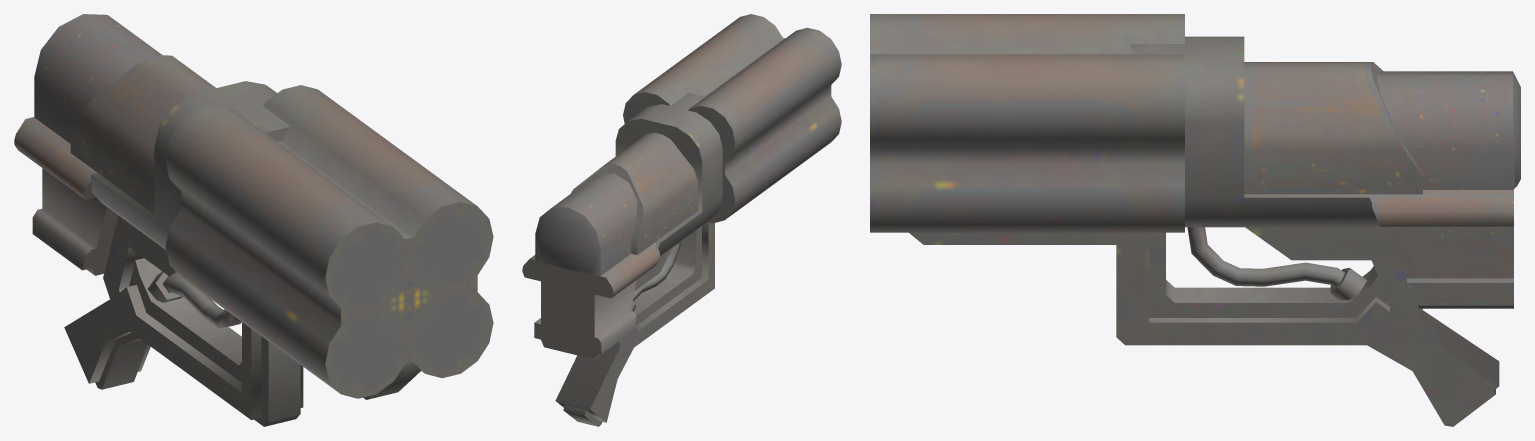
The model's file is stock4.obj.
3 views of the same model, side by side, from view 1: azimuth 30°, elevation 25°; view 2: azimuth 150°, elevation 25°; view 3: azimuth 270°, elevation 25° (orthographic). The views are drawn at different scales.
Parts seen in each view (by area): view 1: stock4; view 2: stock4; view 3: stock4.
Boxes of the visible parts, bbox=[...] form: stock4: bbox=[14, 14, 493, 426]; stock4: bbox=[522, 14, 841, 426]; stock4: bbox=[870, 14, 1520, 426].
Bounding box in the file's own units: 11.16 × 24.45 × 37.89.
